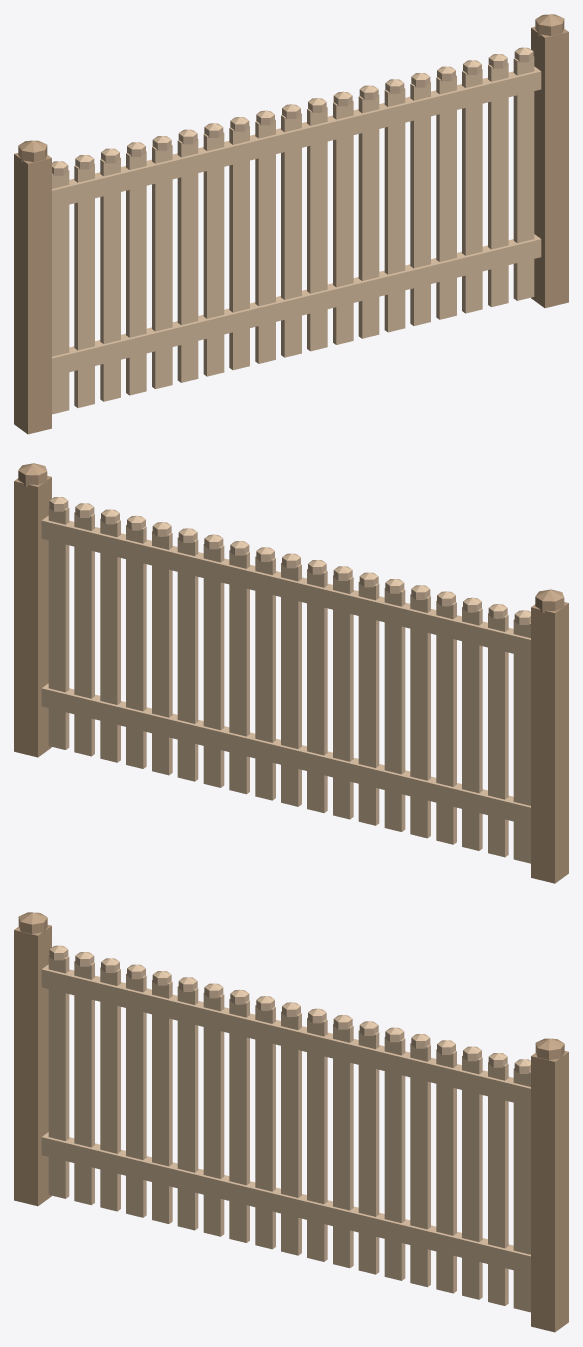
File: wooden-fence.glb
3 views of the same model, one above another, from view 1: azimuth 30°, elevation 25°; view 2: azimuth 150°, elevation 25°; view 3: azimuth 330°, elevation 25° (orthographic).
Parts seen in each view (by area): view 1: LowPoly_WoodenFence; view 2: LowPoly_WoodenFence; view 3: LowPoly_WoodenFence.
Part boxes in pixels (<box>): LowPoly_WoodenFence: <box>14,14,568,434</box>; LowPoly_WoodenFence: <box>14,463,568,883</box>; LowPoly_WoodenFence: <box>14,912,568,1332</box>.
Size of the model in its own units: 3.15 by 1.59 by 0.1452.
